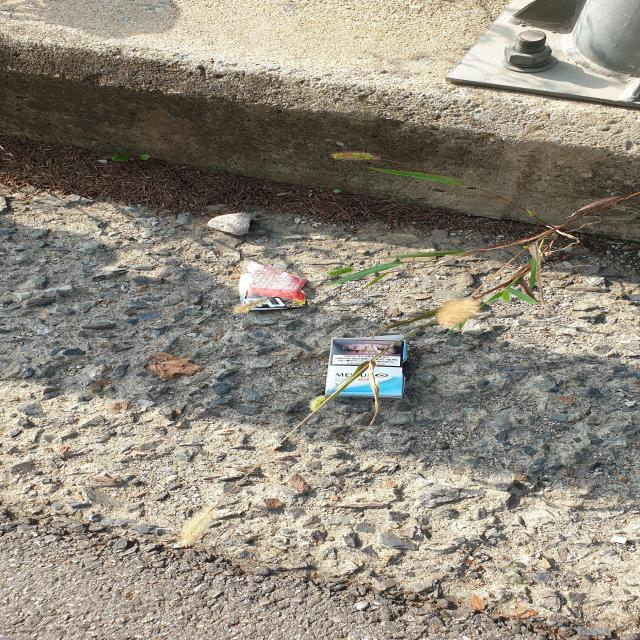litter: (326, 335, 406, 399), (238, 260, 310, 310)
